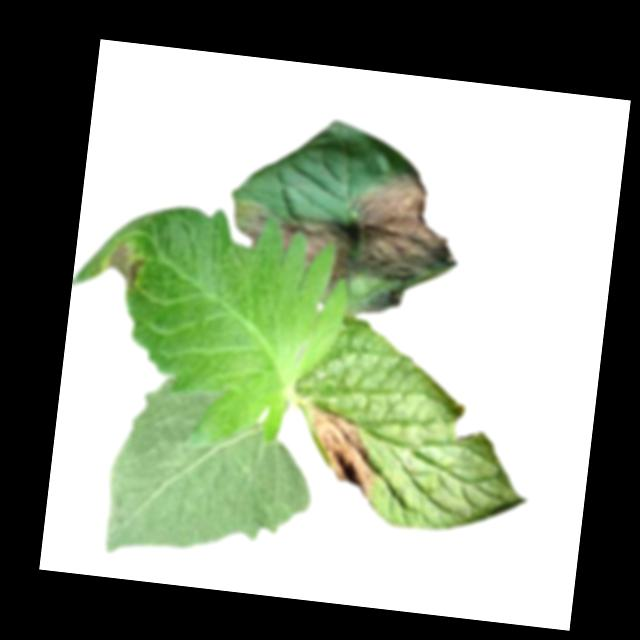Late_blight: (348, 165, 462, 291), (227, 199, 355, 283), (293, 397, 389, 505), (96, 235, 148, 299), (348, 281, 403, 319)
healthy: (100, 369, 324, 577)
